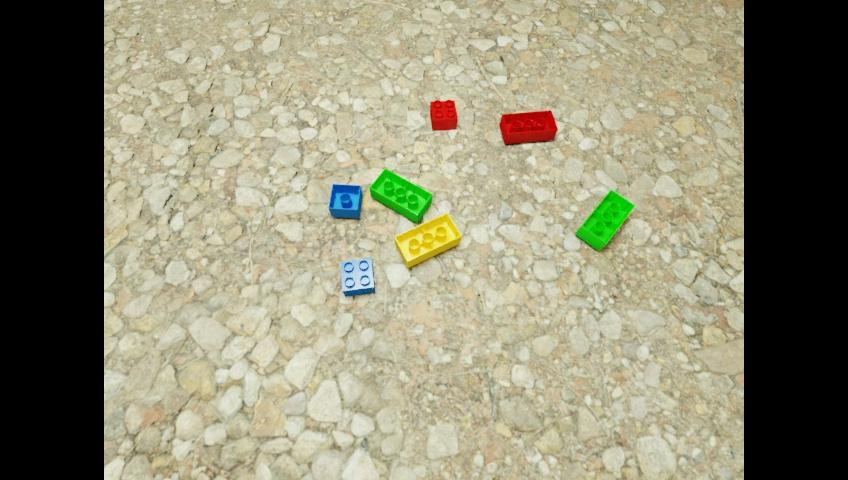2x2_blue: (340, 257, 374, 296), (328, 183, 361, 217)
2x2_red: (429, 99, 457, 130)
4x2_green: (574, 189, 634, 250), (370, 168, 431, 222)
4x2_red: (500, 111, 558, 145)
4x2_yellow: (395, 212, 461, 267)
